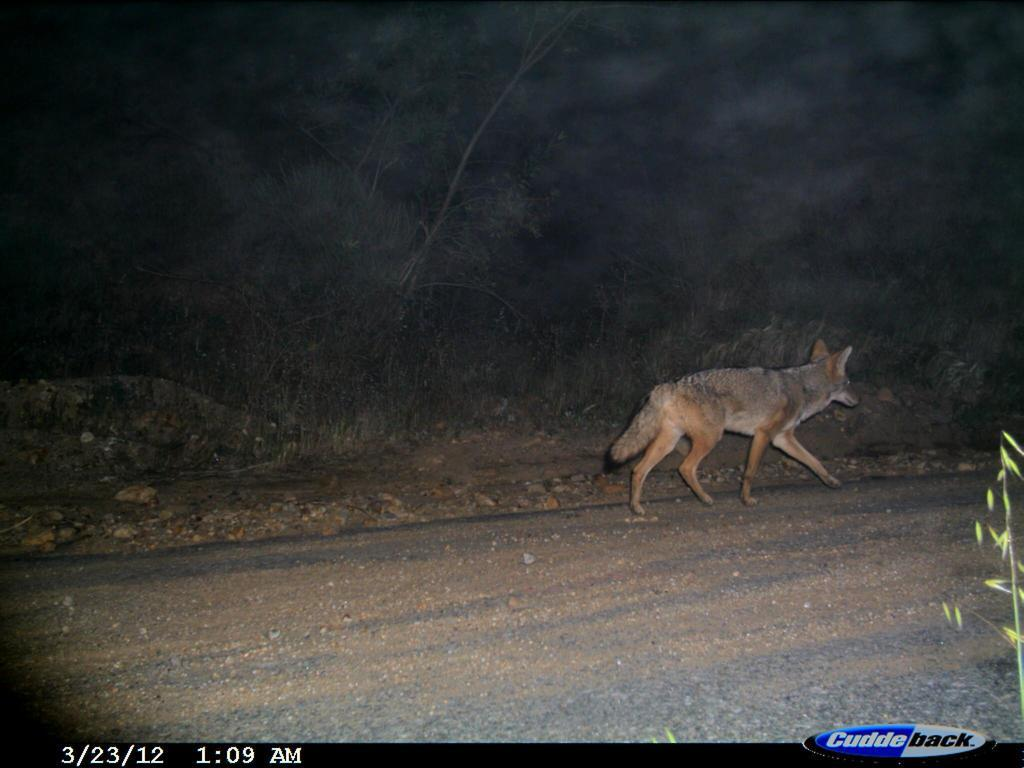coyote: (607, 340, 859, 514)
